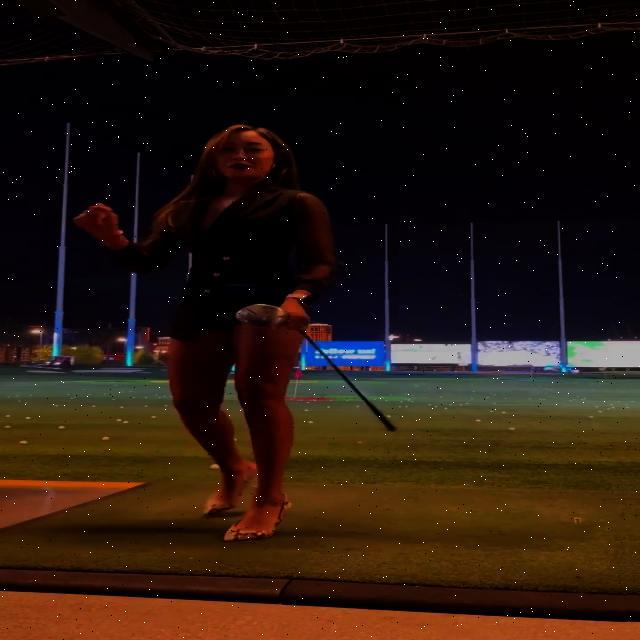ClubHandle: (231, 301, 398, 433)
ClubHead: (237, 304, 293, 328)
GolfBall: (209, 463, 222, 469)
